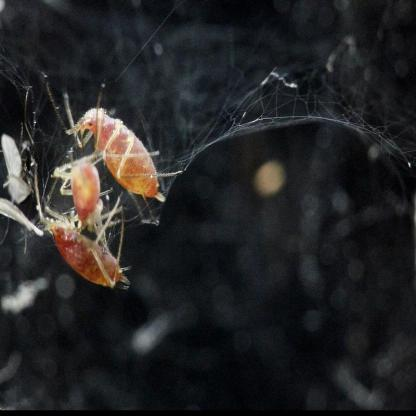aphid: (64, 83, 170, 212), (43, 202, 126, 296), (54, 149, 112, 234)
